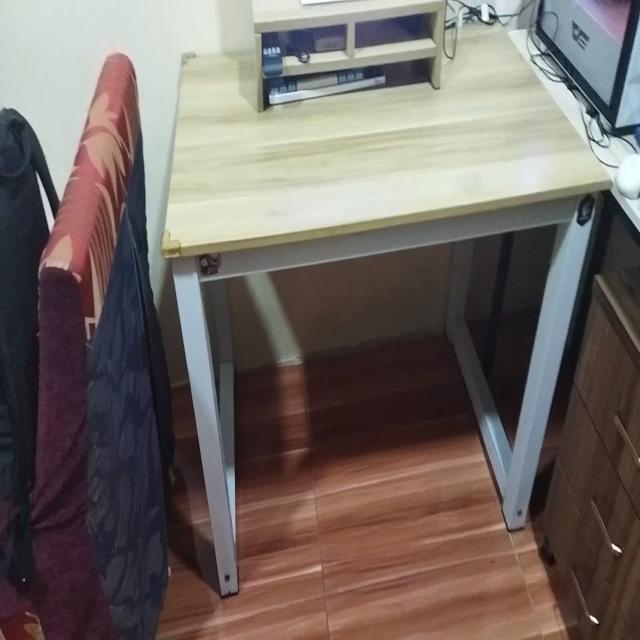table: (168, 17, 604, 590)
